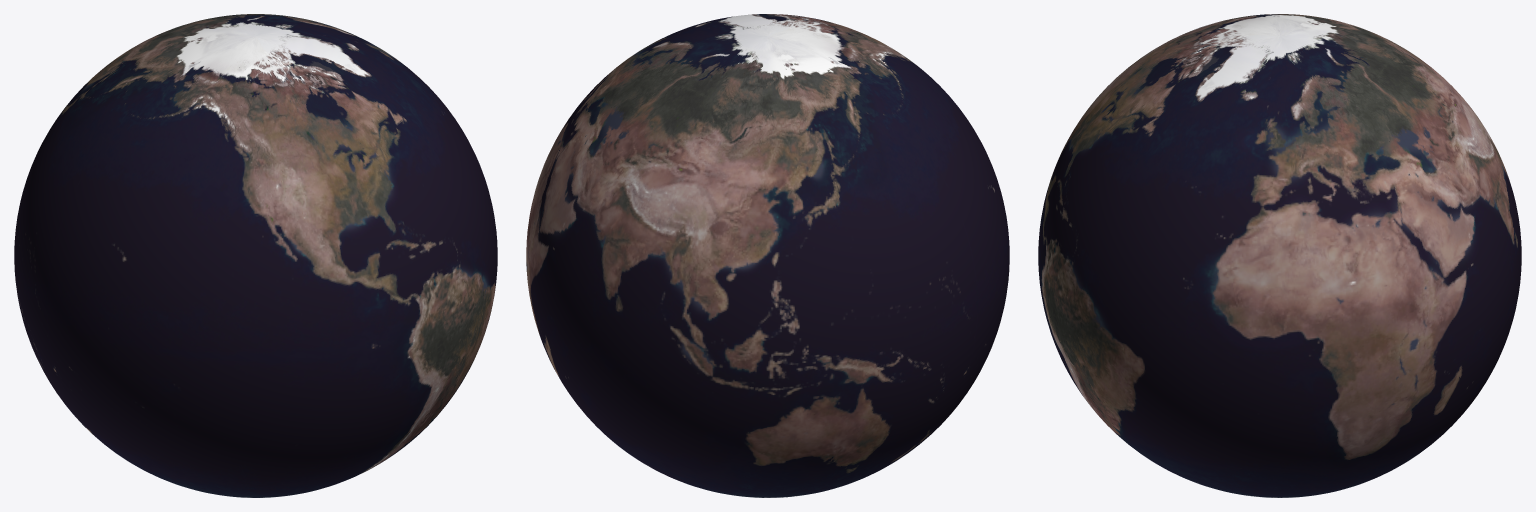
The model's file is earth.obj.
The picture shows the model from 3 angles, left to right: view 1: azimuth 30°, elevation 25°; view 2: azimuth 150°, elevation 25°; view 3: azimuth 270°, elevation 25°; orthographic projection.
Visible parts, largest first — view 1: Sphere; view 2: Sphere; view 3: Sphere.
Boxes of the visible parts, x1,y1,x2,y2 form: Sphere: [14, 14, 497, 497]; Sphere: [526, 14, 1009, 497]; Sphere: [1038, 14, 1521, 497].
Bounding box in the file's own units: 9.98 × 10 × 9.98.
Materials: 1 (1 with a texture image).
